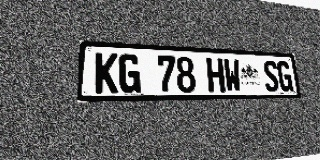7: (156, 55, 177, 93)
8: (176, 56, 196, 93)
G: (119, 54, 141, 93), (276, 61, 293, 92)
H: (206, 58, 225, 92)
K: (95, 52, 118, 93)
S: (262, 60, 280, 92)
W: (223, 58, 242, 92)
